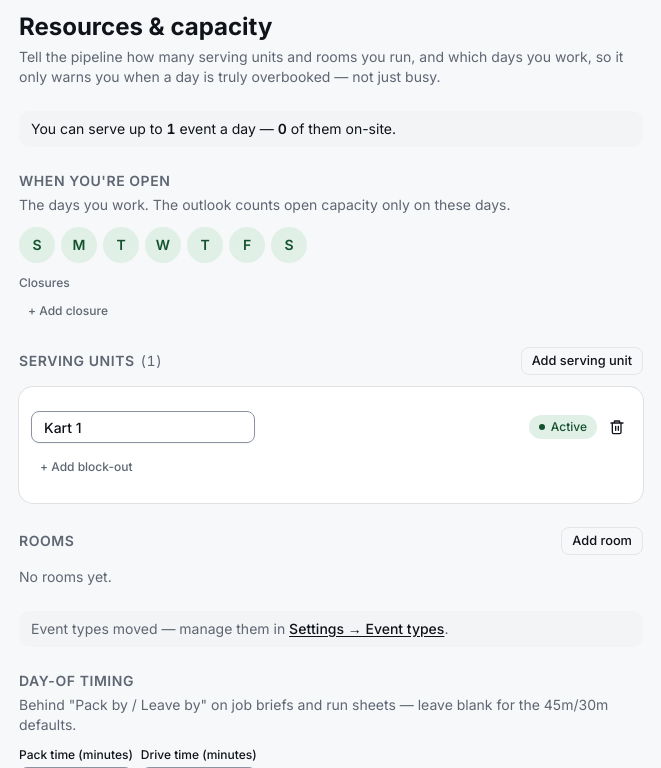
CapacityUnitsClient › Resource labels — editable category names › edits a kind label through updateResourceLabels
Click the button with aria-label "rename serving units category": (101, 361) [19,351,182,371]
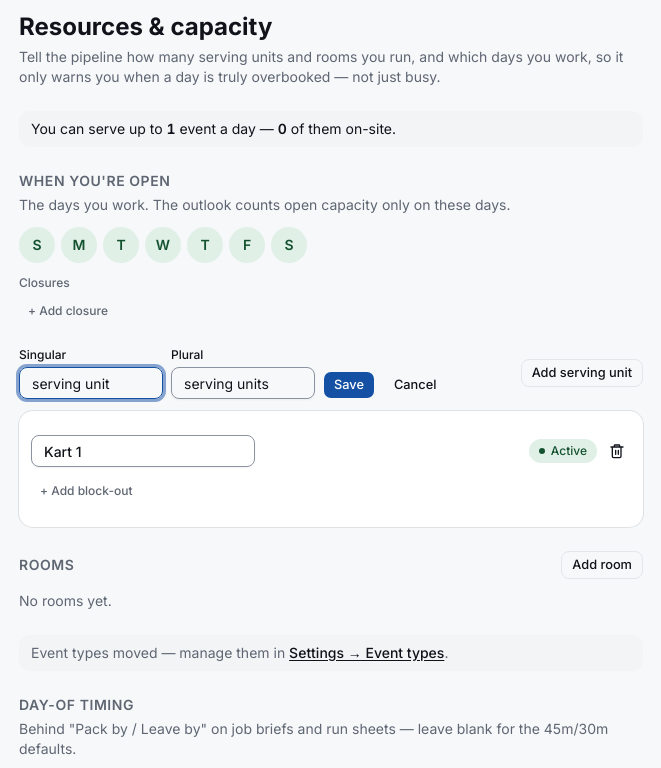
Replace the text in the field labelled "Singular" with "Cart": (91, 383) [19,367,163,399]
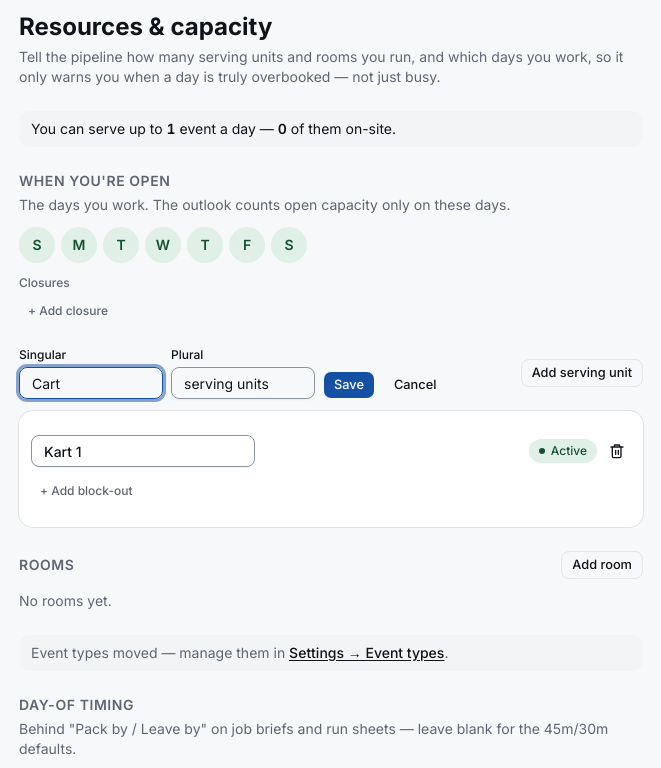
Replace the text in the field labelled "Plural" with "Carts": (243, 383) [171,367,315,399]
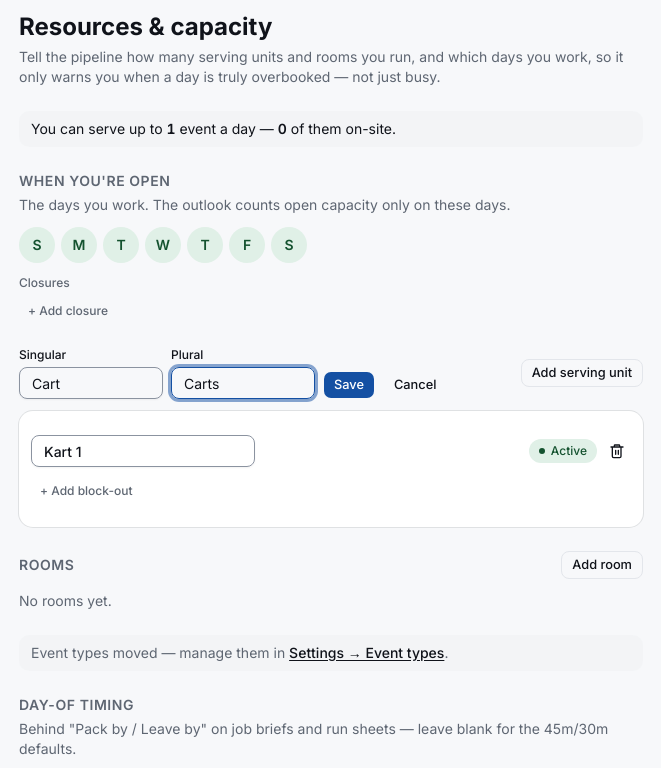
Click the button "Save": (349, 385) [323,371,375,399]
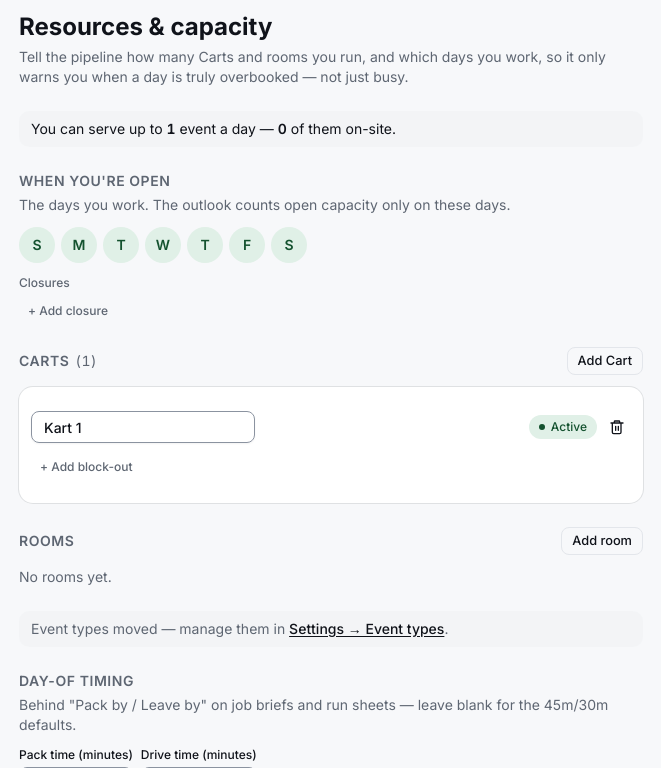
Check: the element "Carts" is shown, box [19,347,643,503]
